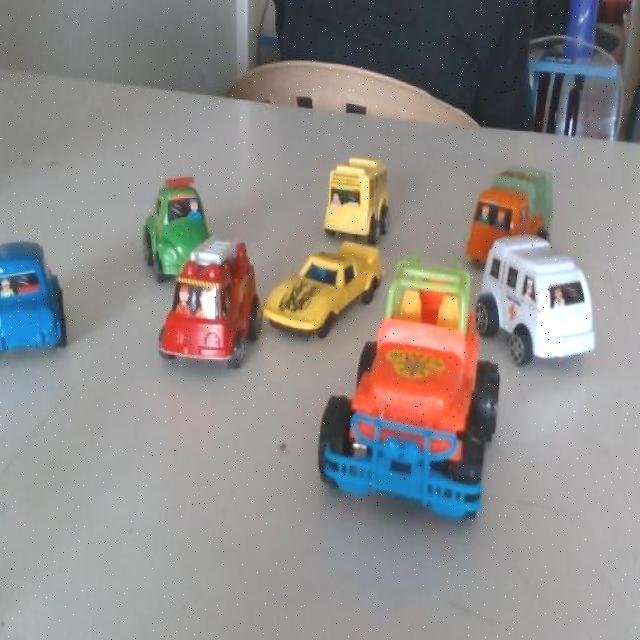car: (309, 267, 492, 544), (263, 235, 383, 352), (158, 237, 253, 380), (491, 244, 598, 358), (0, 228, 76, 378), (466, 160, 550, 262), (134, 178, 212, 284), (318, 148, 382, 238)
